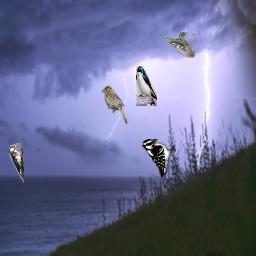Sparrow: (101, 85, 129, 125), (164, 32, 195, 58)
Swallow: (136, 66, 157, 106)
Woodpecker: (142, 139, 176, 179), (9, 143, 24, 183)
